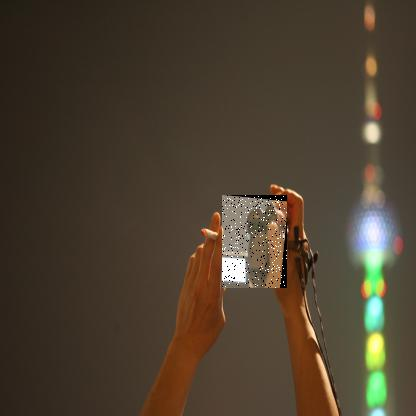Camera: (223, 196, 289, 290)
